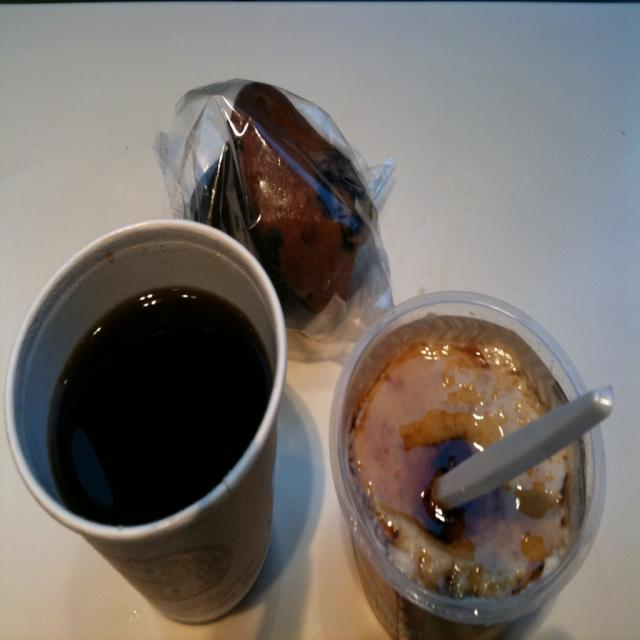Tea: (48, 282, 274, 520)
